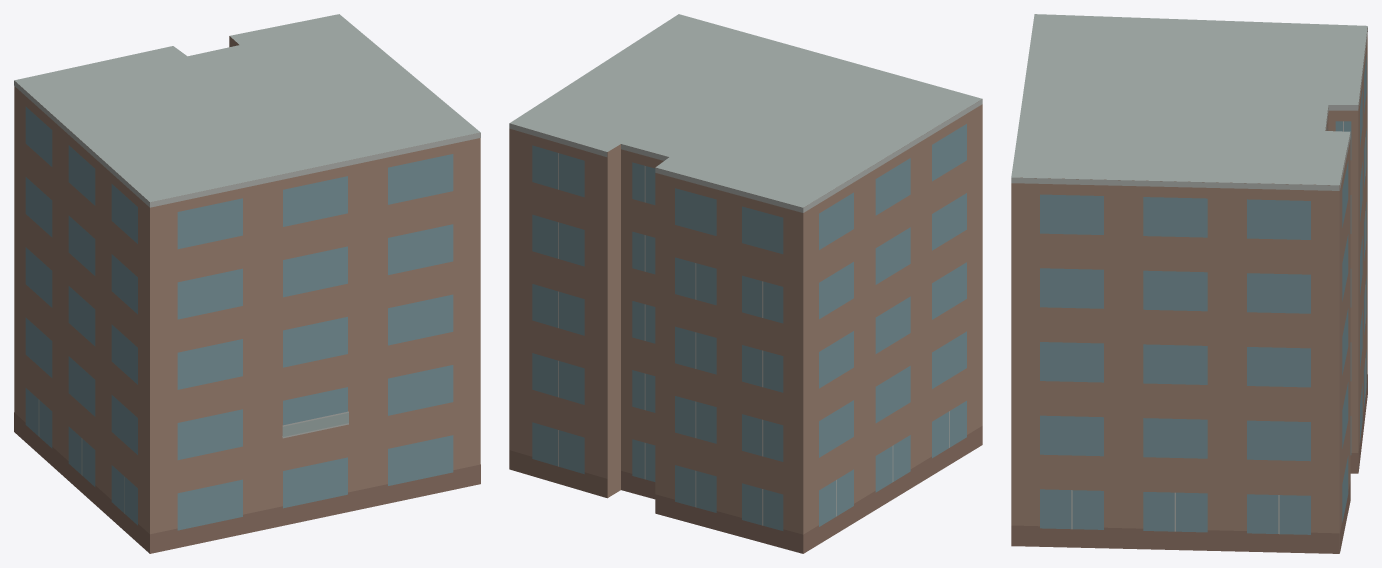
Rendered from survey-upis-32760145.glb.
3 views of the same model, side by side, from view 1: azimuth 30°, elevation 25°; view 2: azimuth 150°, elevation 25°; view 3: azimuth 270°, elevation 25° (orthographic). The views are drawn at different scales.
Parts seen in each view (by area): view 1: survey-upis-32760145.tmp; view 2: survey-upis-32760145.tmp; view 3: survey-upis-32760145.tmp.
Boxes of the visible parts, left/top/right/bottom form: survey-upis-32760145.tmp: left=14, top=14, right=480, bottom=553; survey-upis-32760145.tmp: left=509, top=14, right=982, bottom=553; survey-upis-32760145.tmp: left=1011, top=14, right=1367, bottom=553.
Size of the model in its own units: 15.86 by 15.9 by 13.95.
